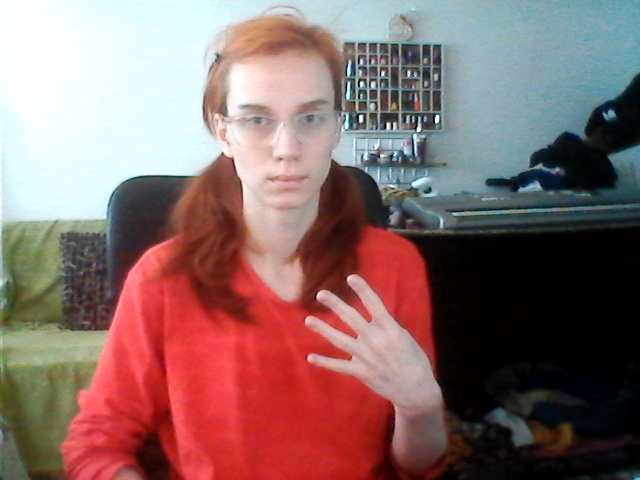styri: (296, 268, 441, 409)
